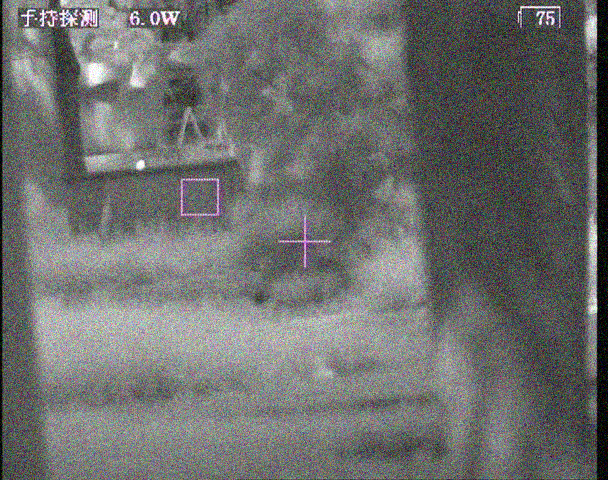my: (134, 157, 146, 171)
